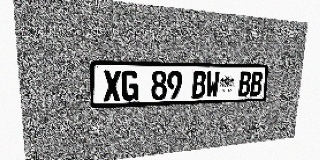8: (151, 70, 167, 100)
9: (167, 71, 182, 99)
B: (191, 71, 206, 98), (238, 71, 251, 97), (250, 71, 263, 96)
G: (121, 70, 138, 101)
W: (205, 71, 220, 98)
X: (103, 70, 121, 102)
